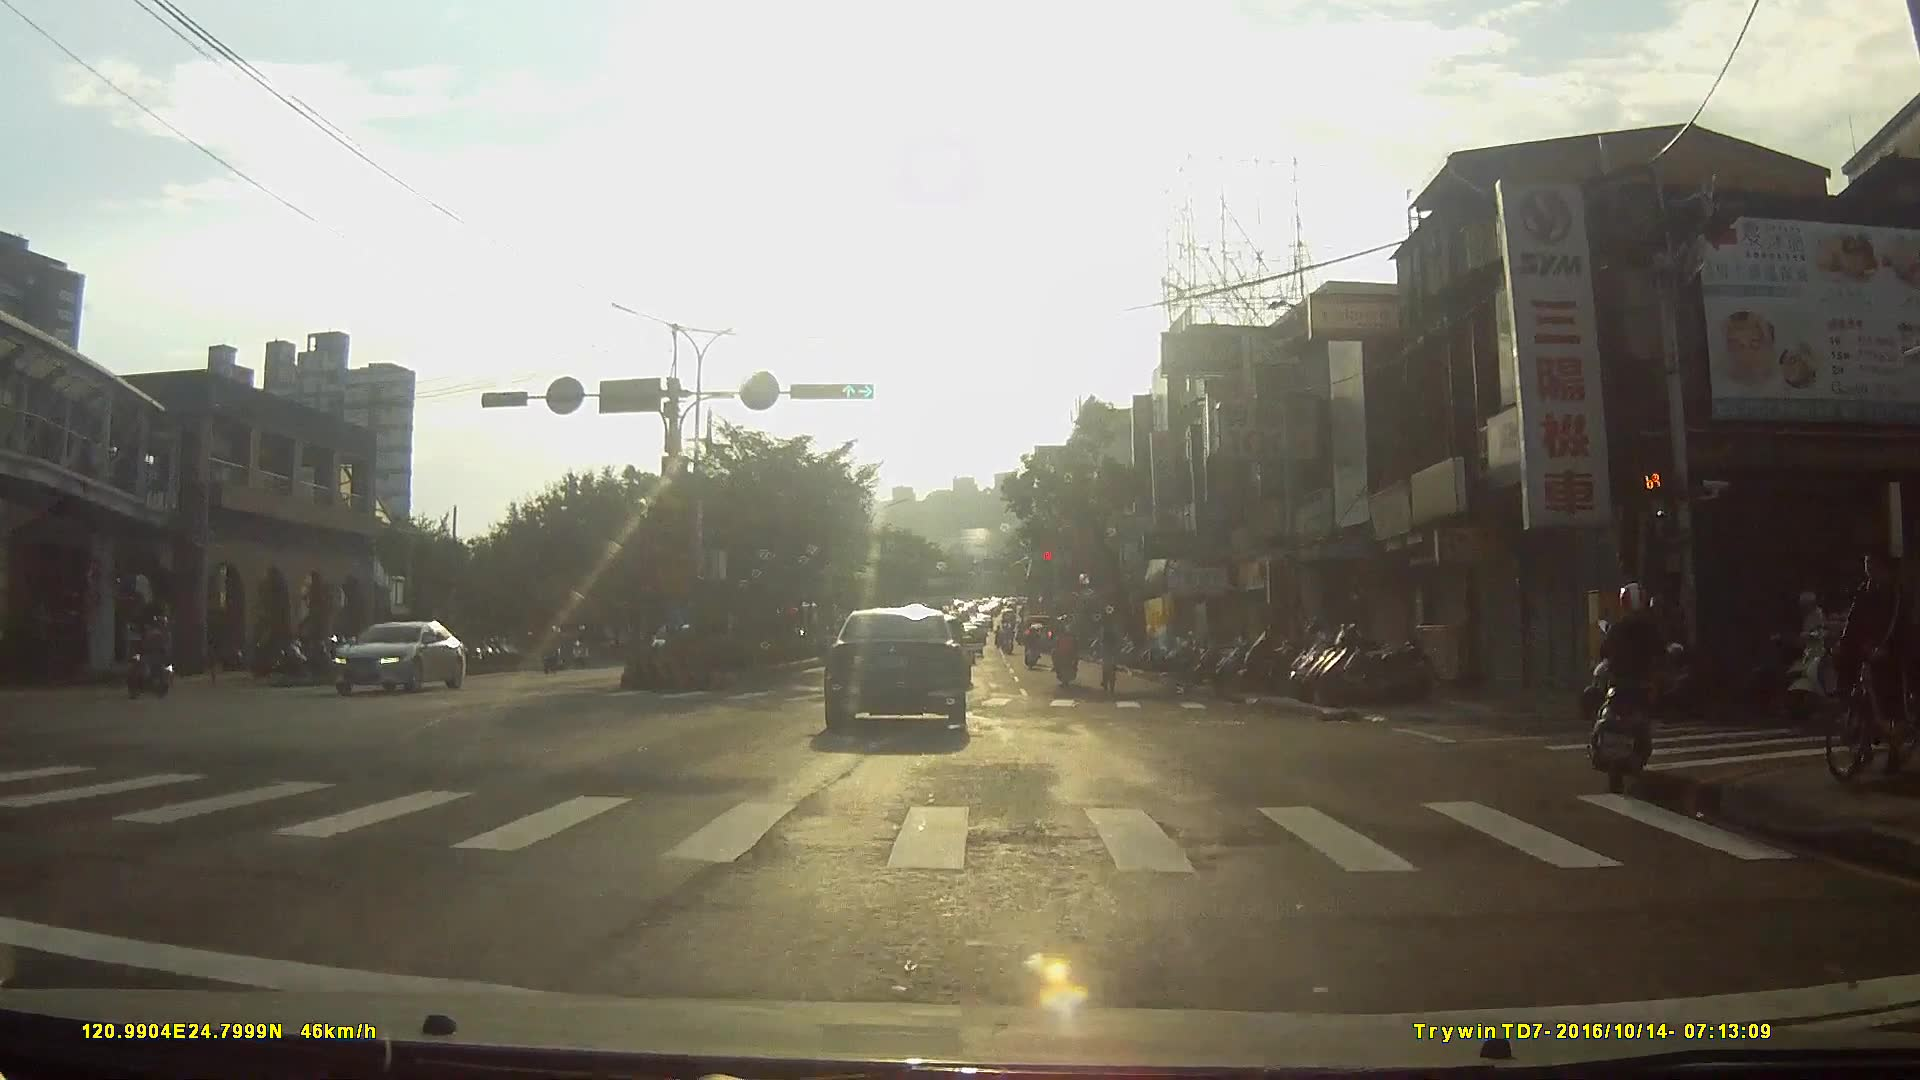rider: (1825, 553, 1920, 778), (1591, 583, 1688, 798), (129, 615, 176, 696), (1052, 624, 1081, 692), (1022, 625, 1045, 673)
vehicle: (824, 608, 983, 748), (330, 618, 467, 703)
